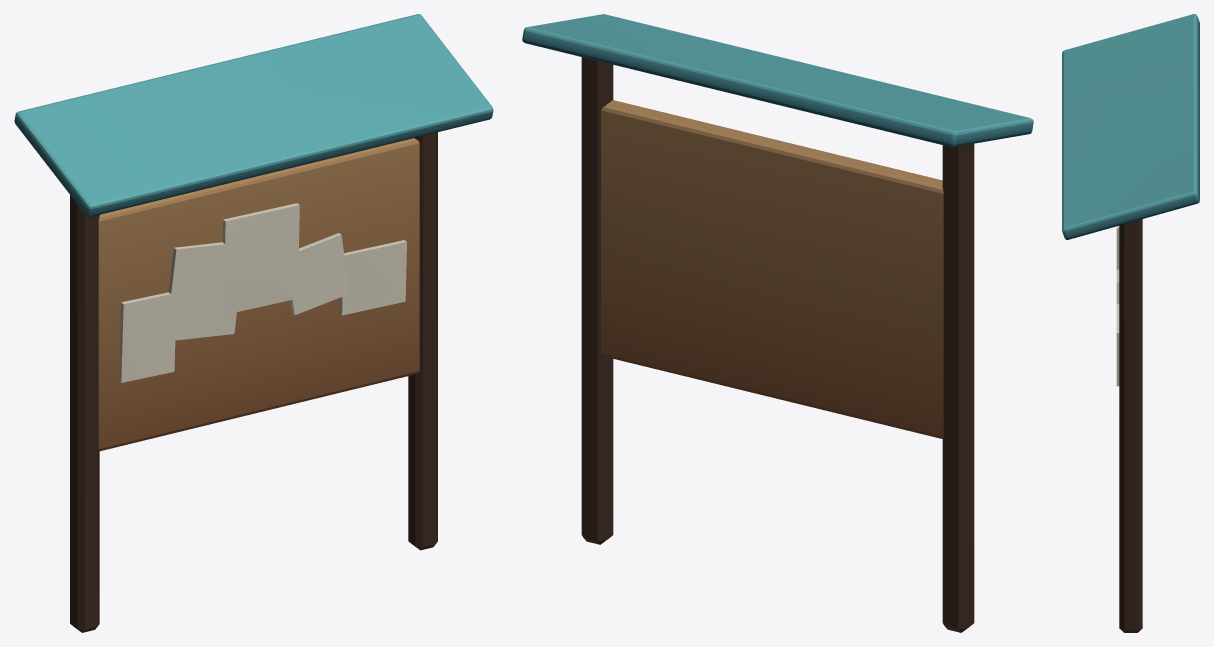
File: notice_board.glb
The picture shows the model from 3 angles, left to right: view 1: azimuth 30°, elevation 25°; view 2: azimuth 150°, elevation 25°; view 3: azimuth 270°, elevation 25°; orthographic projection. The views are drawn at different scales.
Visible parts, largest first — view 1: Board; view 2: Board; view 3: Board.
Boxes of the visible parts, x1,y1,x2,y2 form: Board: (14, 14, 493, 632); Board: (522, 14, 1033, 632); Board: (1062, 14, 1199, 632).
Bounding box in the file's own units: 1.8 × 2.11 × 0.5831.
